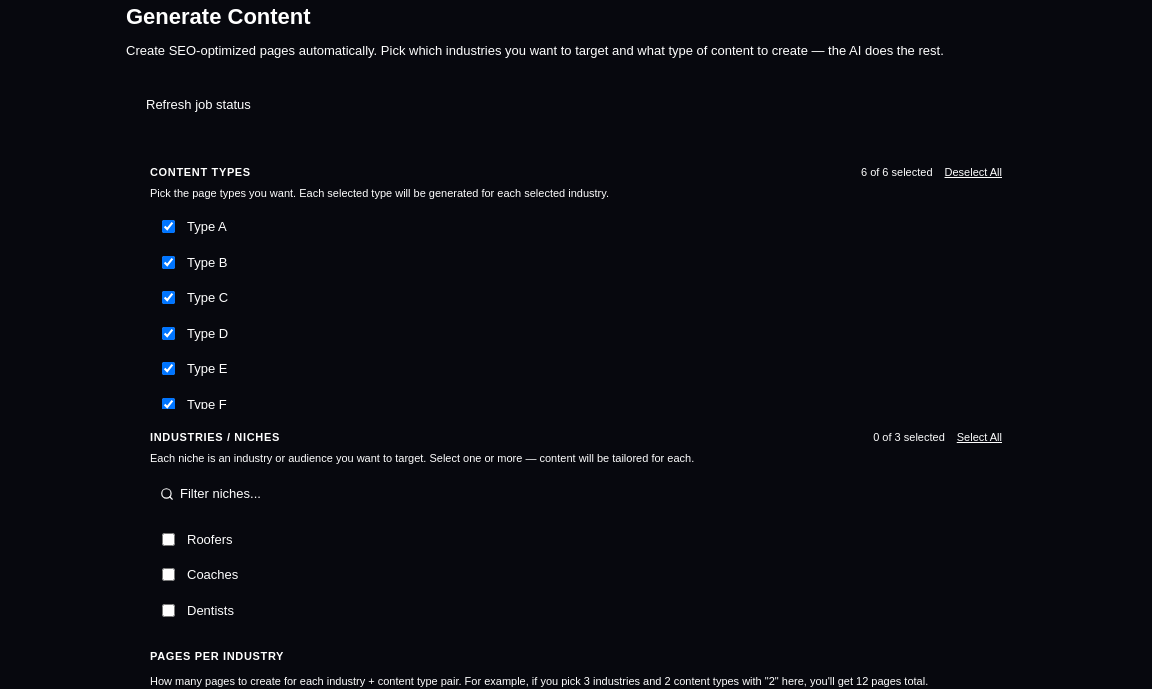
it: GenerationControls › Select All only selects the niches the filter shows
Expected: the text "Roofers" is shown, [162,532,232,546]
Type "roof" into the field with placeholder "Filter niches..." at [576, 494], box [150,474,1002,514]
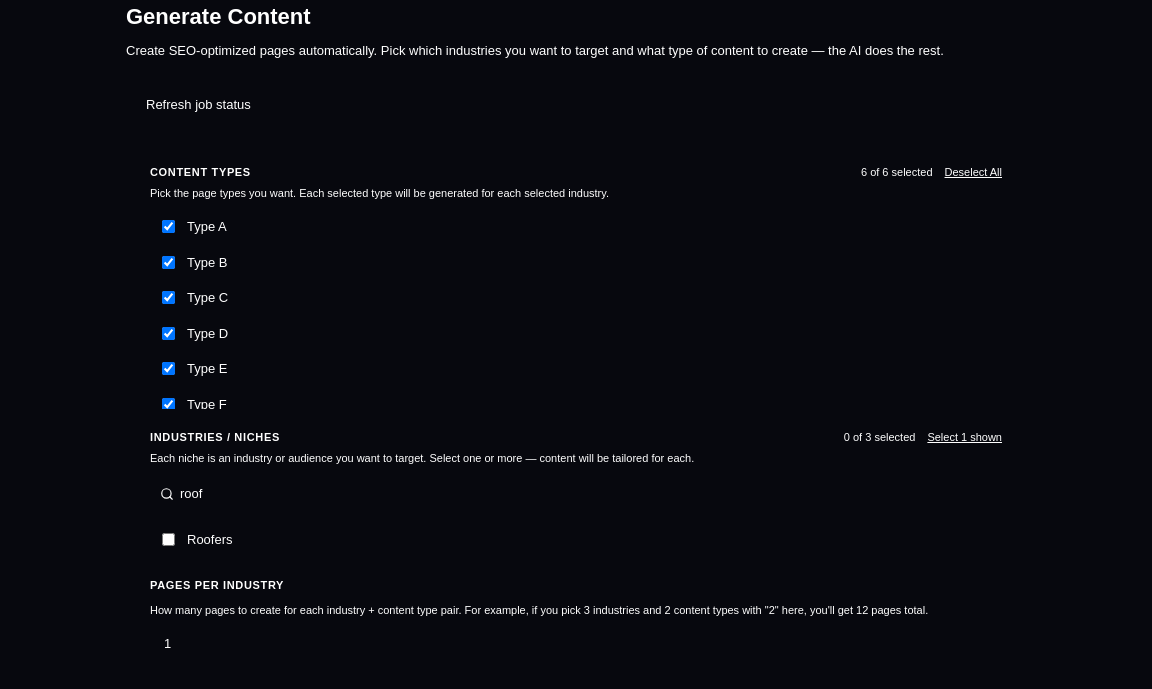
Click the button "Select 1 shown" at [965, 437], box [927,429,1002,446]
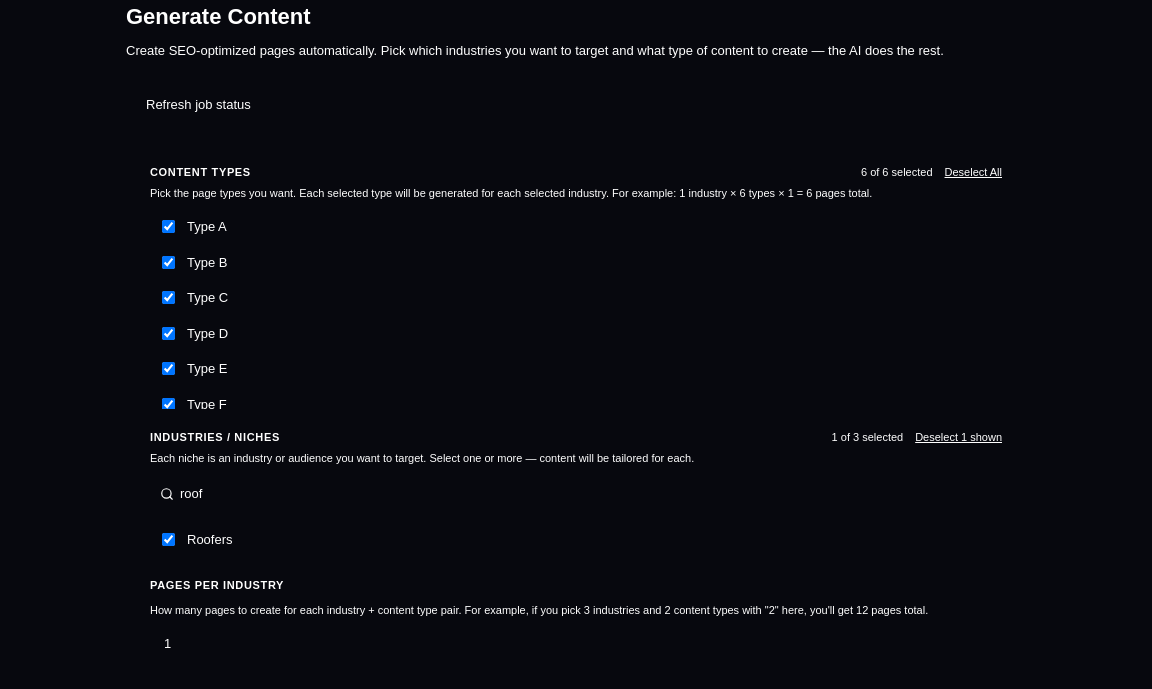
Expected: the text "1 of 3 selected" is shown, [832,429,903,446]
